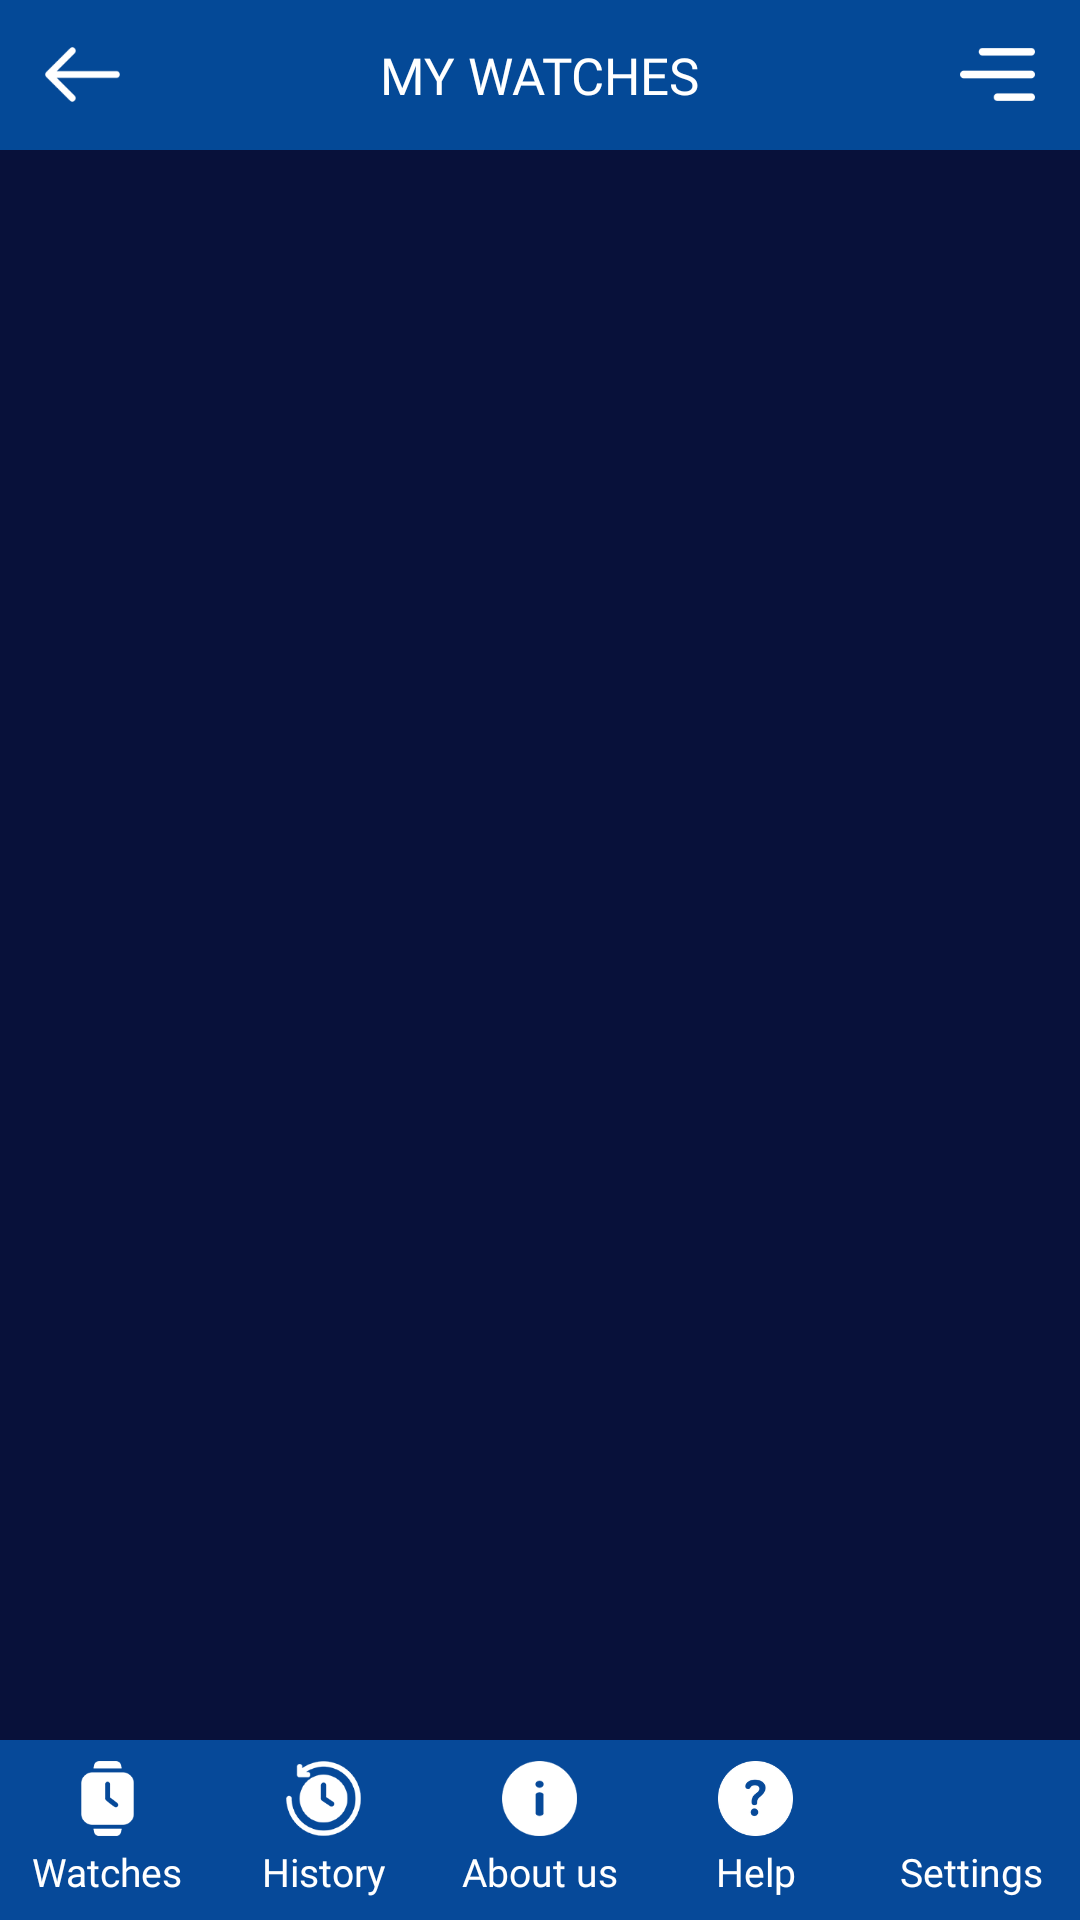

Locate icon controls on the screen. Image size 1080×1920, boxes as (x1, y1, x2, y2).
back: (45, 47, 120, 102)
bar: (960, 48, 1035, 101)
info: (502, 1761, 577, 1836)
question: (718, 1761, 793, 1836)
